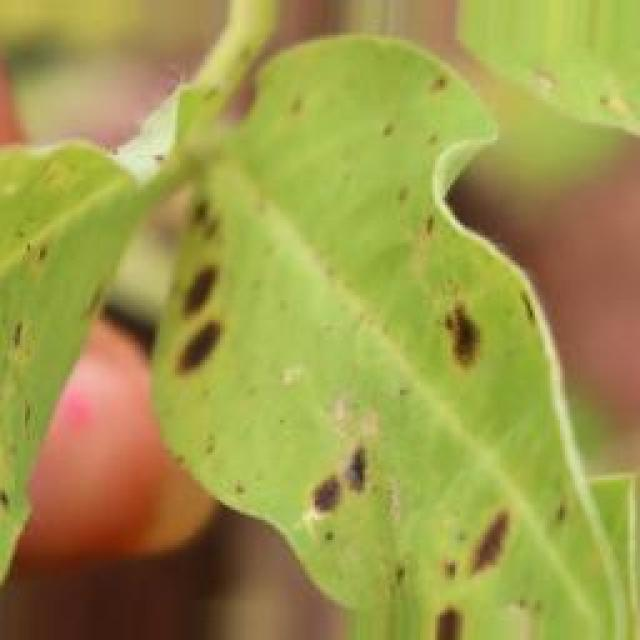Early_leaf_spot: (417, 476, 539, 578), (264, 407, 384, 510), (149, 254, 245, 380), (420, 262, 490, 388), (0, 304, 65, 401), (404, 37, 465, 137), (398, 568, 477, 640)
